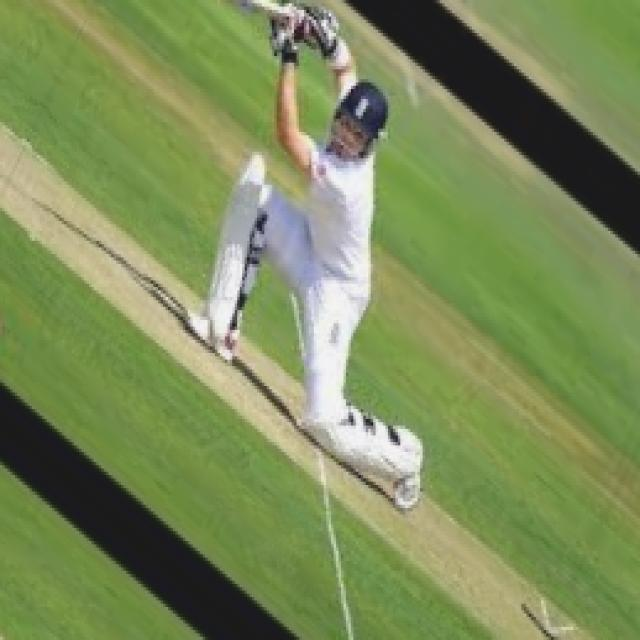bat: (215, 0, 318, 27)
